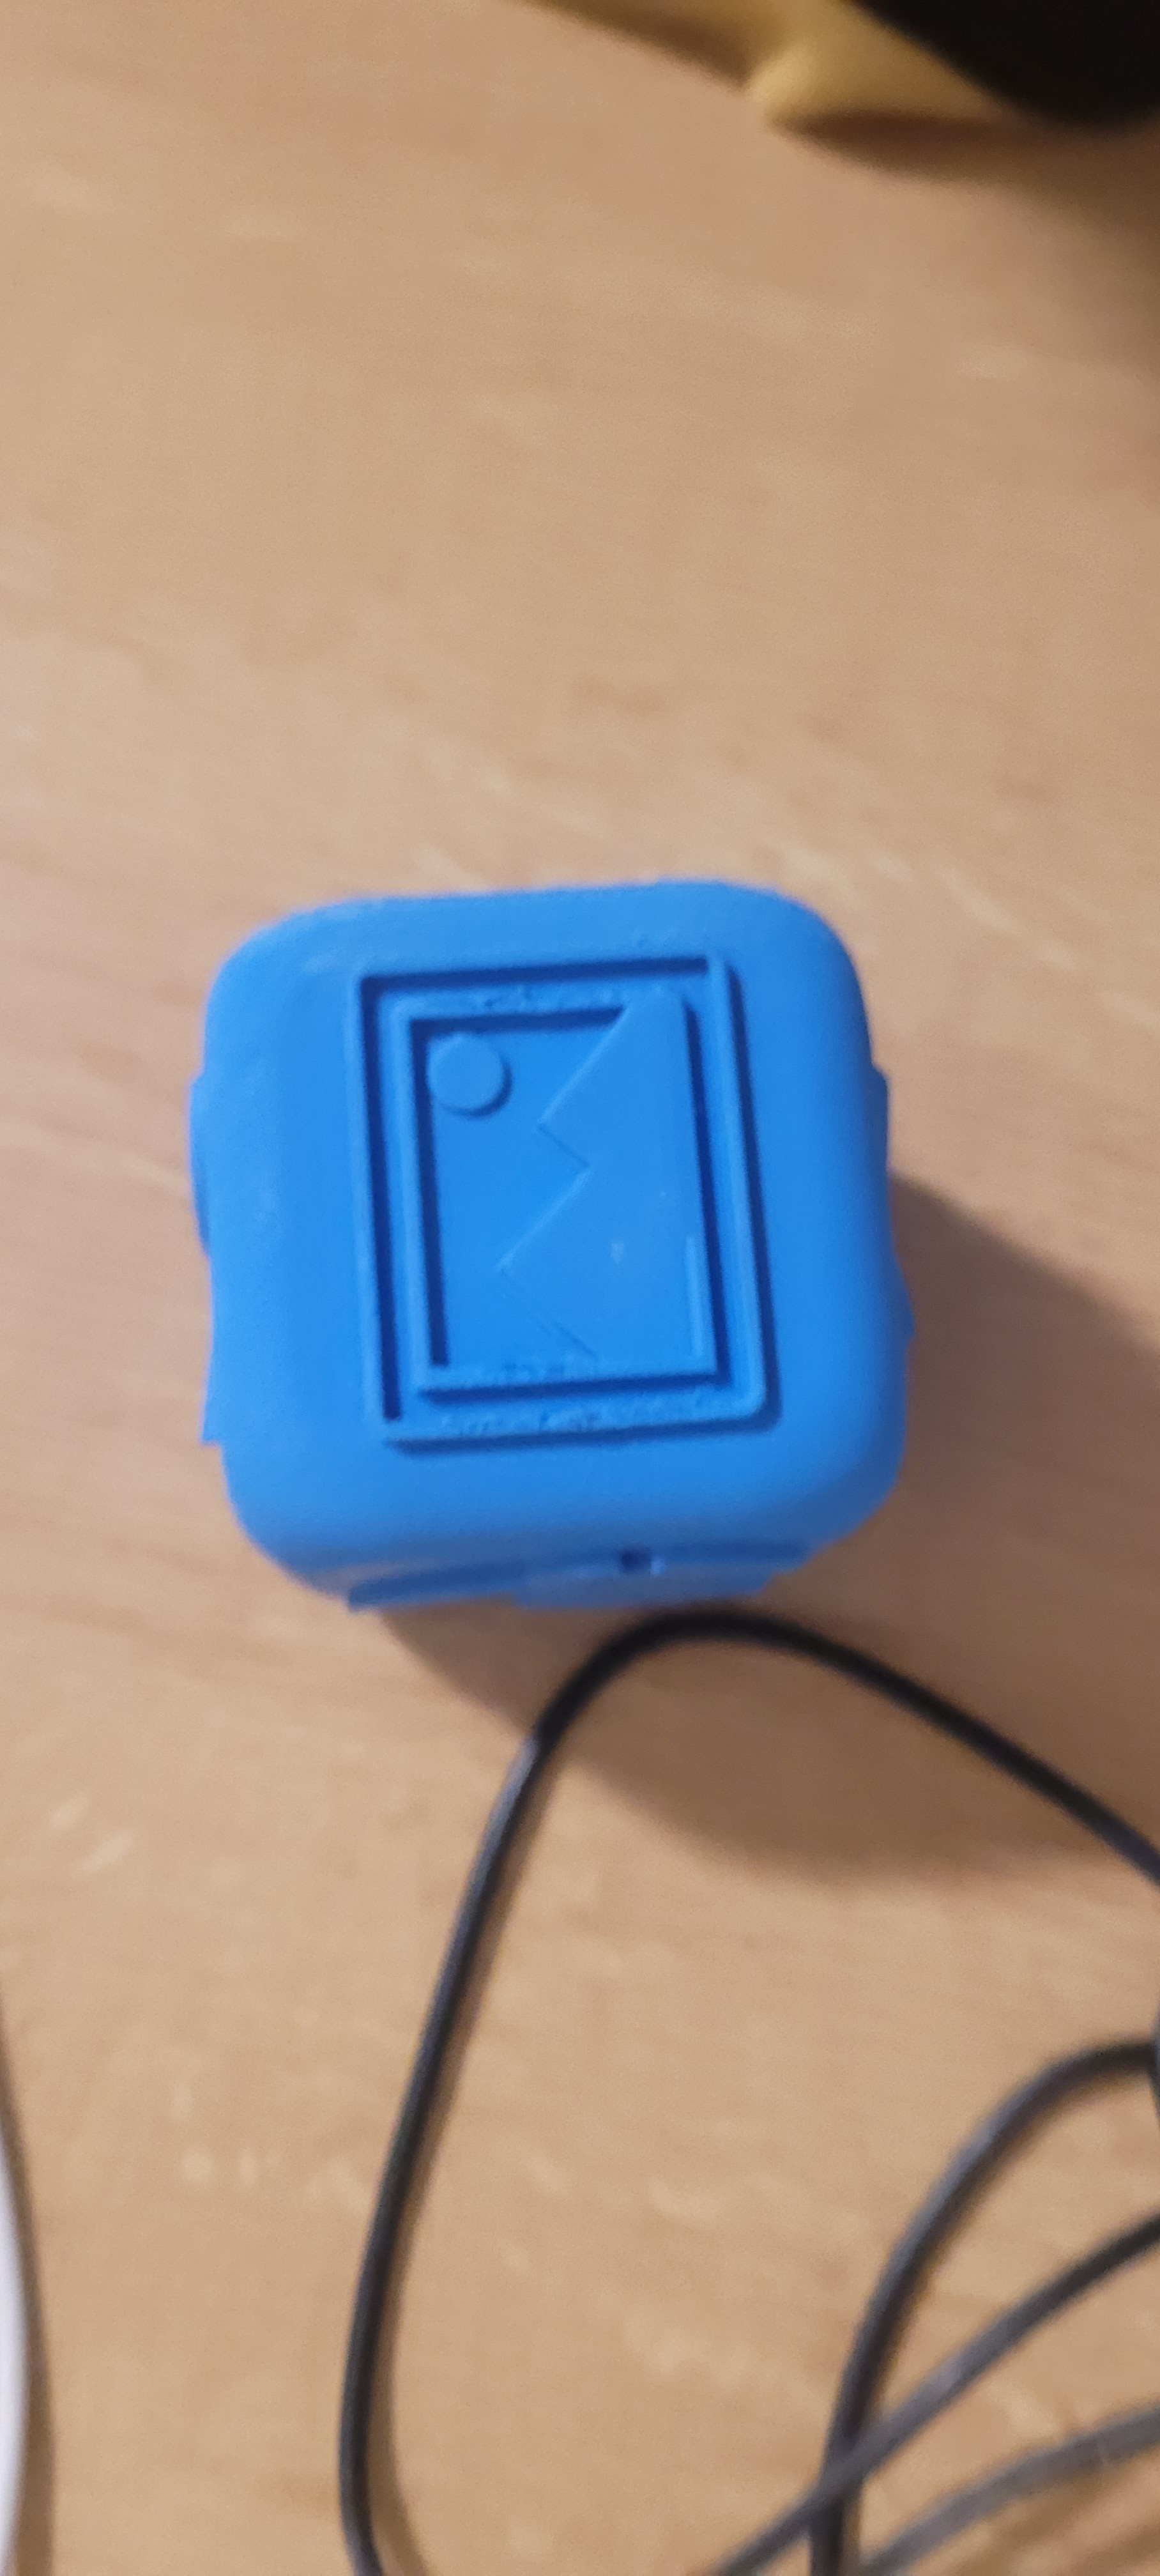Story: (288, 930, 830, 1447)
